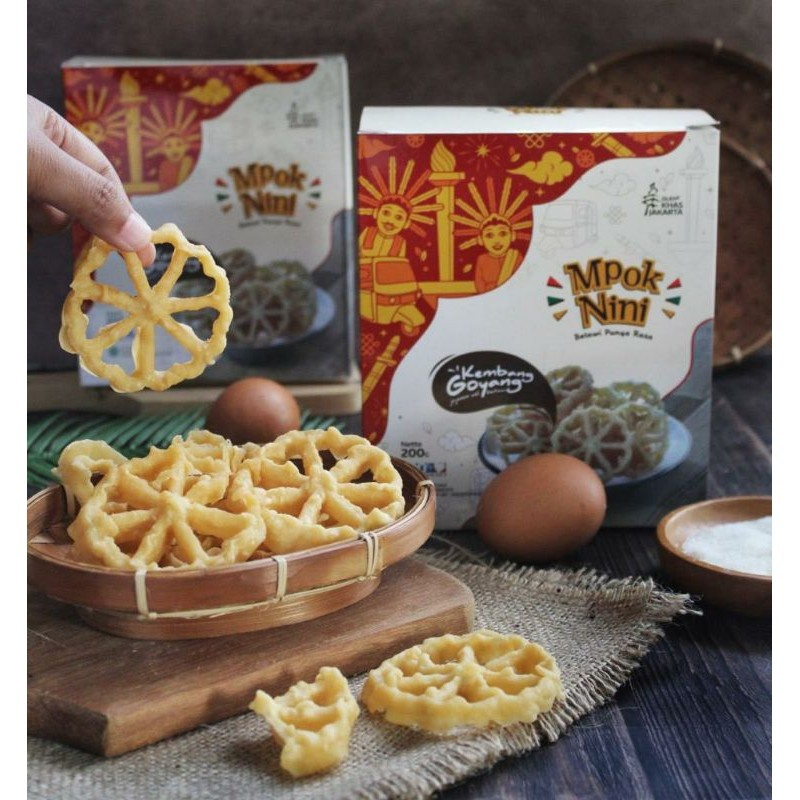kembang_goyang: (61, 227, 248, 386), (88, 441, 265, 573)
